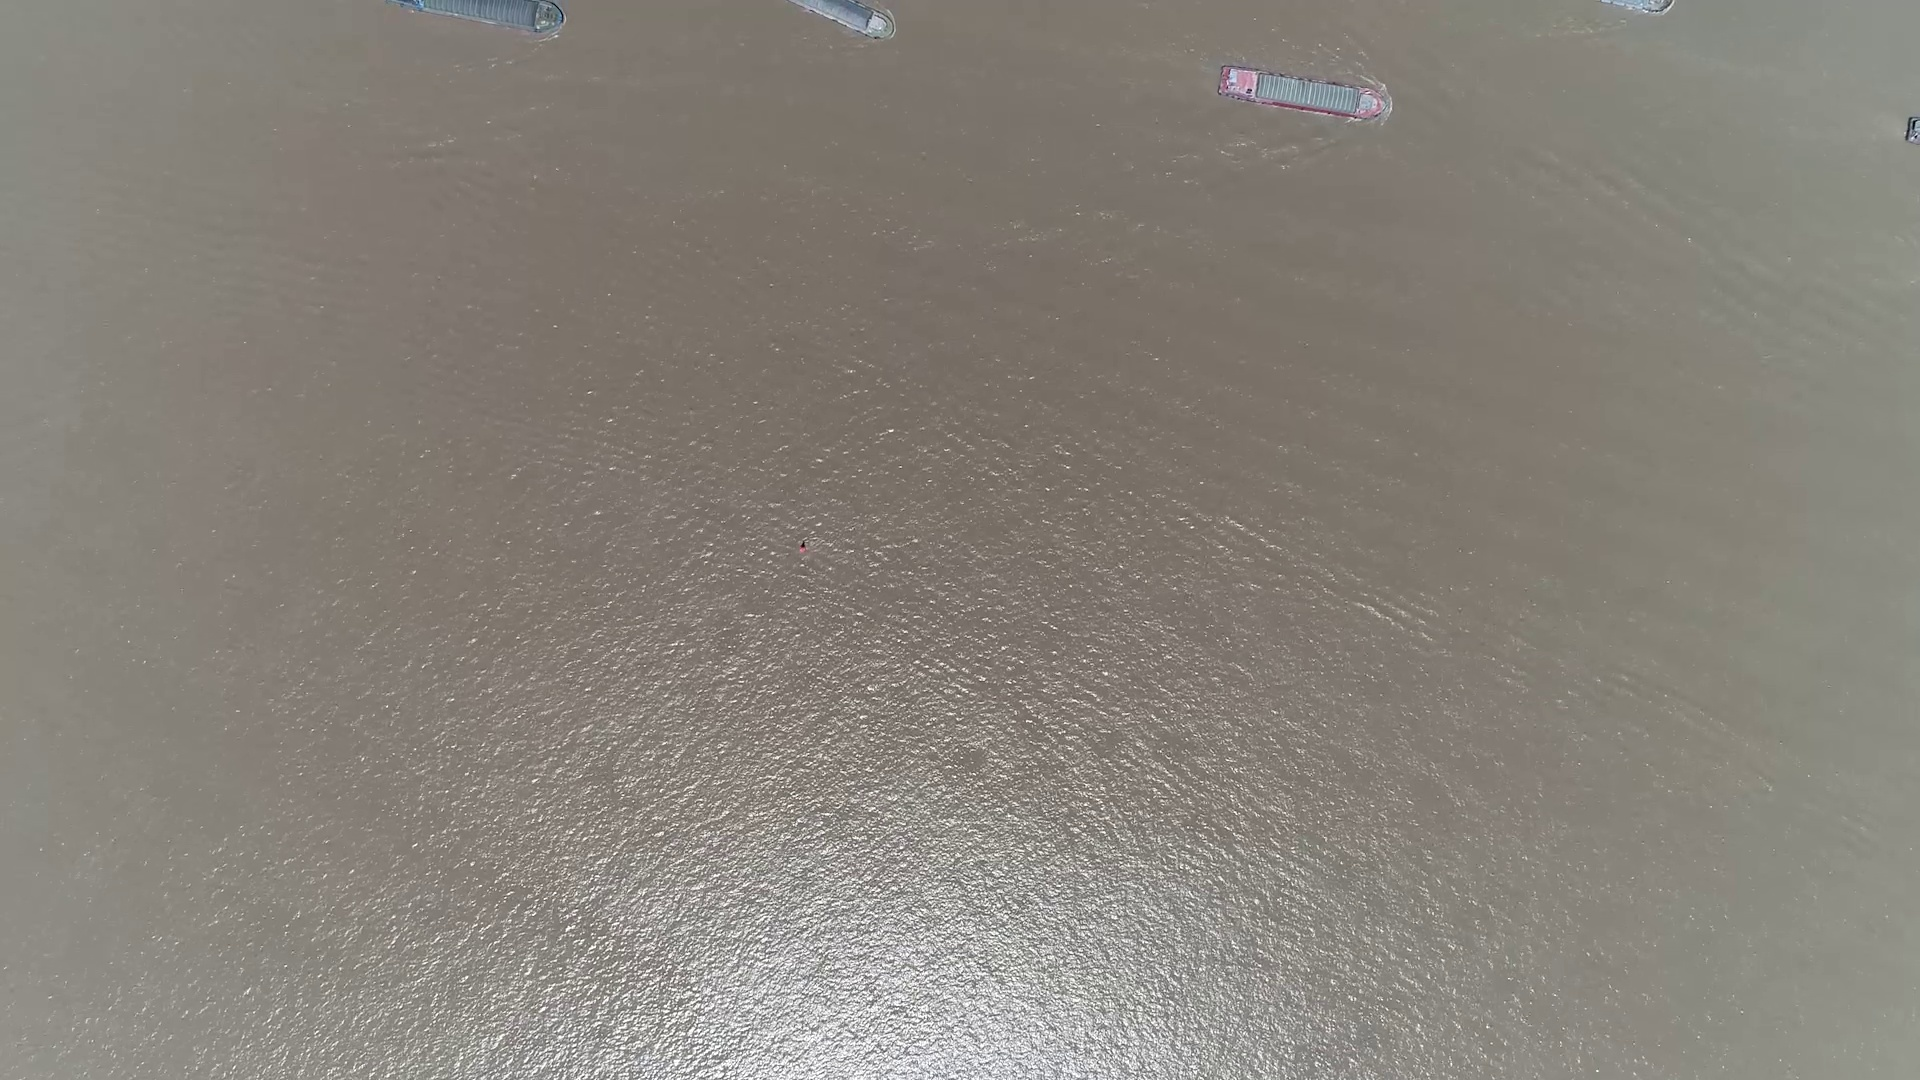ship: (1215, 69, 1389, 120), (385, 1, 562, 32), (793, 0, 898, 47), (1600, 0, 1668, 12)
